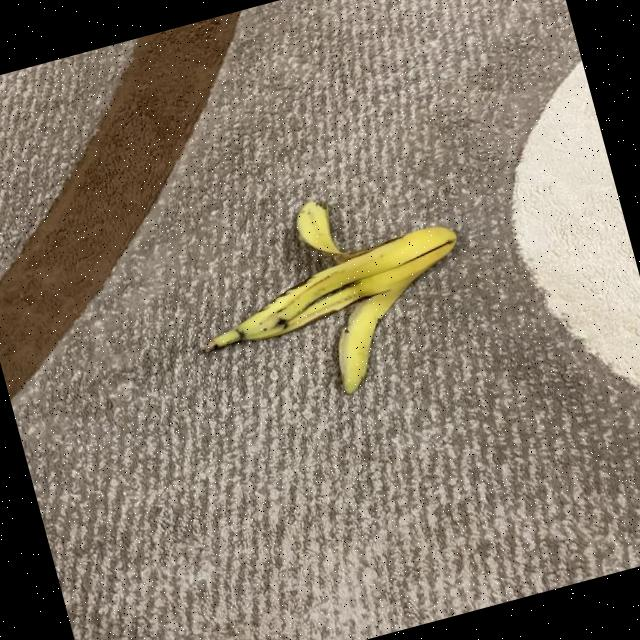banana-peel: (171, 165, 488, 428)
